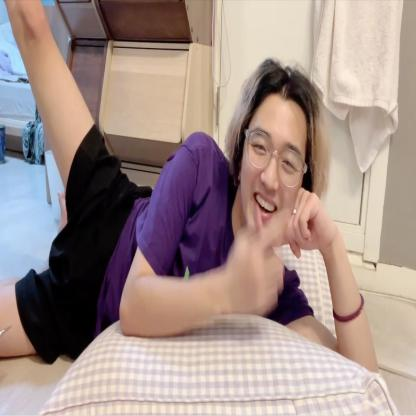streamer: (0, 1, 378, 373)
